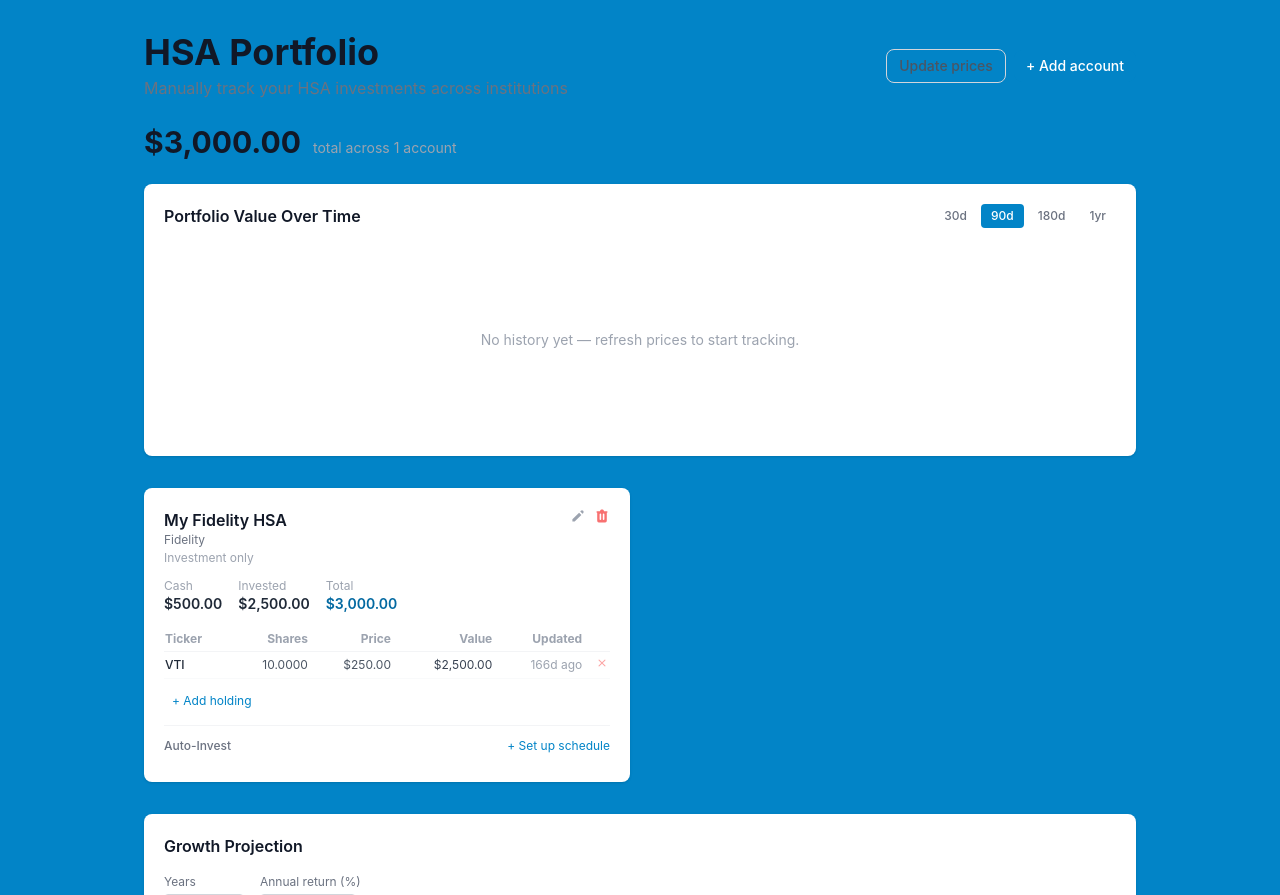
Test: Portfolio page › cancelling shares edit restores read-only display
Check: the text "VTI" is shown, box x1=164 y1=652 x2=229 y2=678
Click the button named "edit shares for vti". click: (285, 665)
box: x1=262 y1=657 x2=308 y2=673
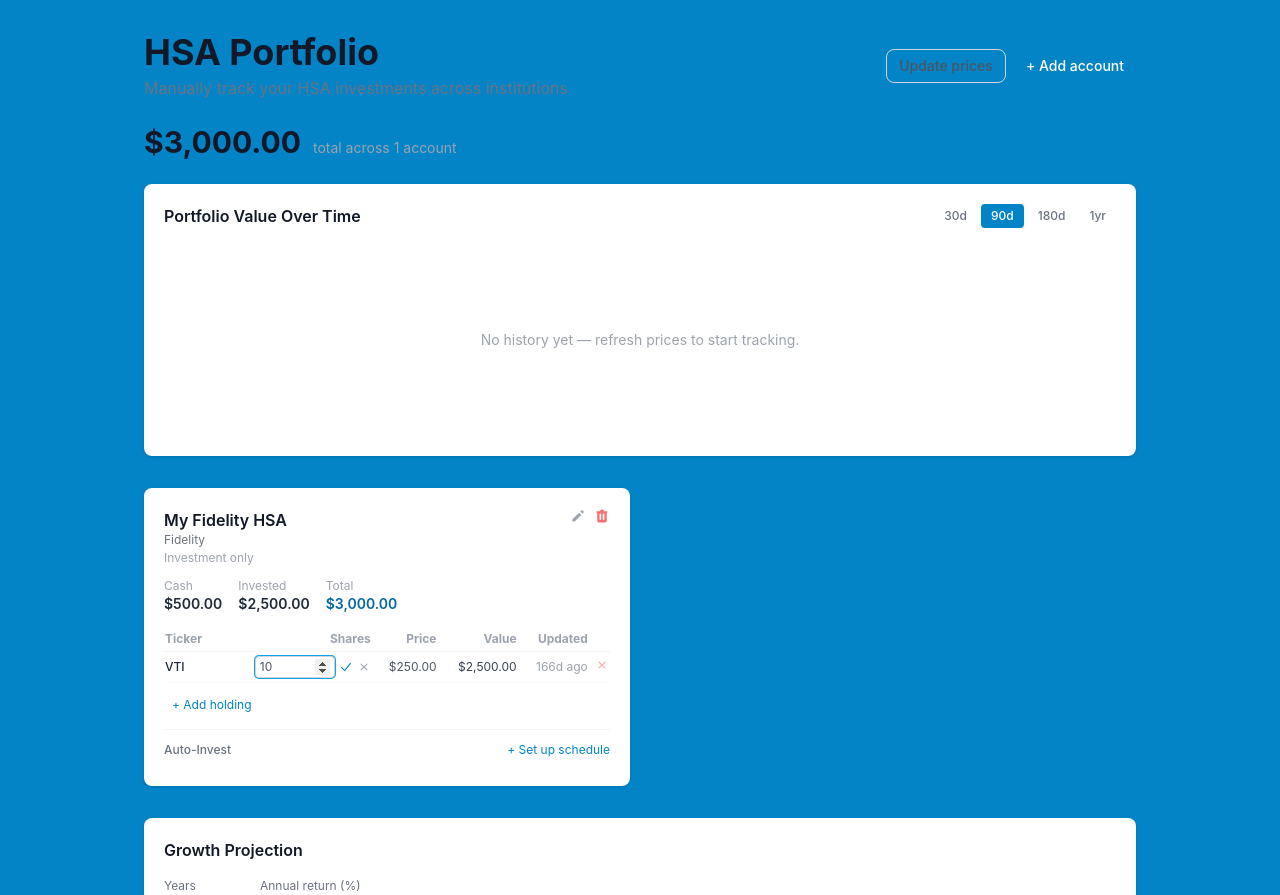
Check: the number field named "shares for vti" is shown, box x1=255 y1=656 x2=335 y2=678
Click the button named "Cancel". click: (364, 667)
box: x1=357 y1=660 x2=371 y2=674
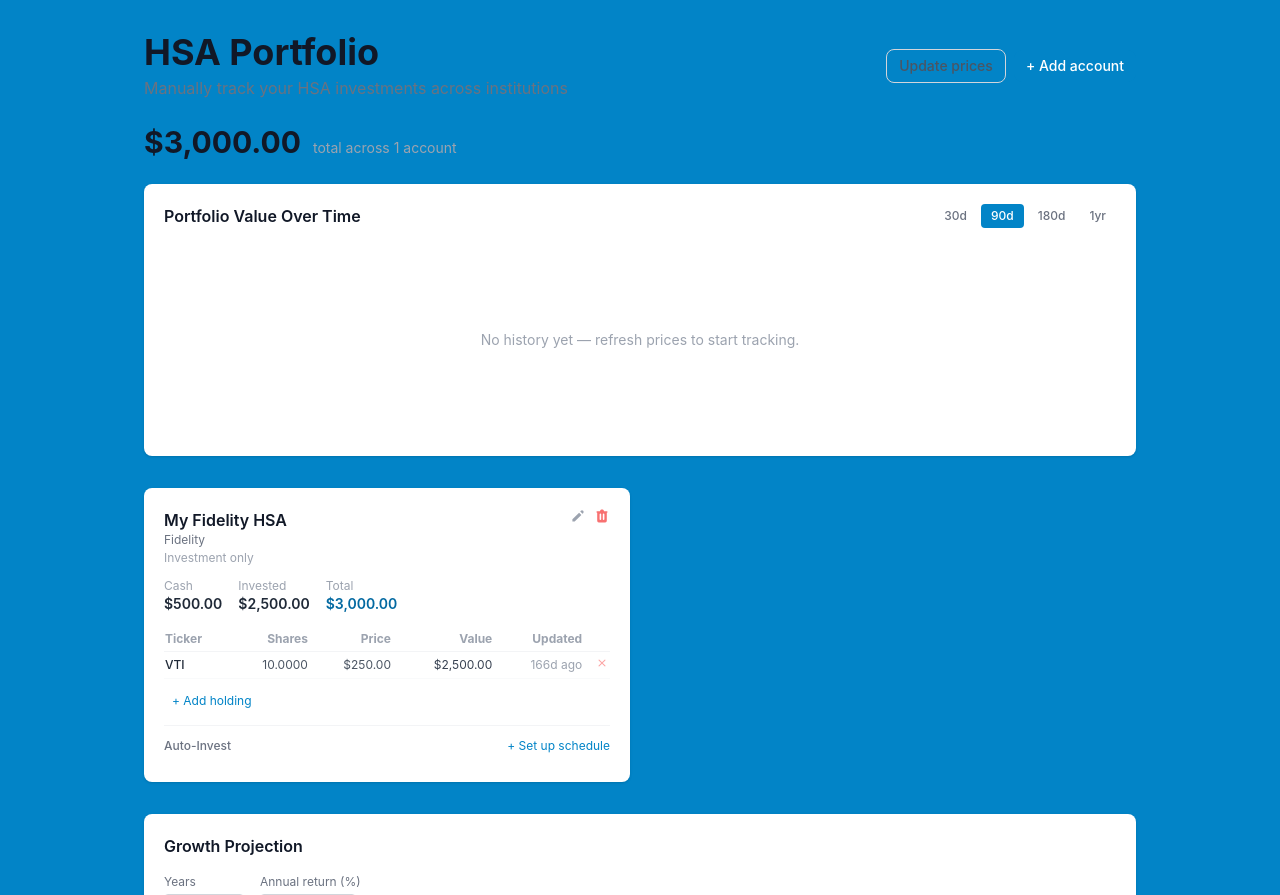
Check: the button named "edit shares for vti" is shown, box x1=262 y1=657 x2=308 y2=673
